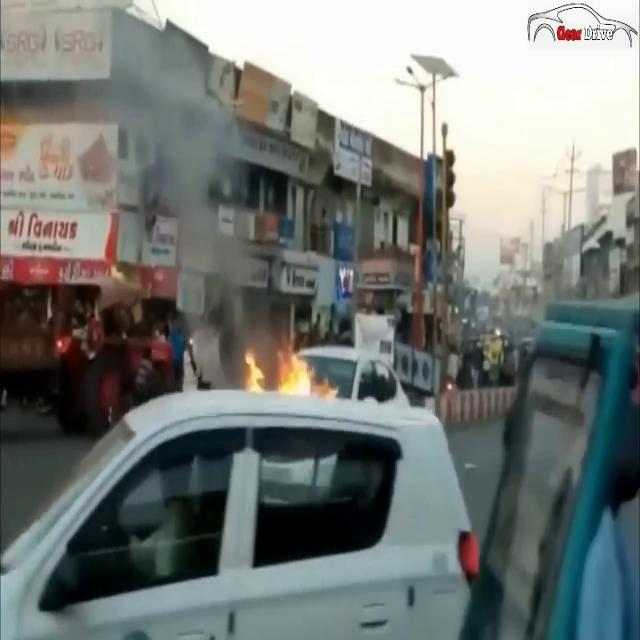Fire: (238, 332, 336, 404)
Smoke: (113, 17, 269, 364)
